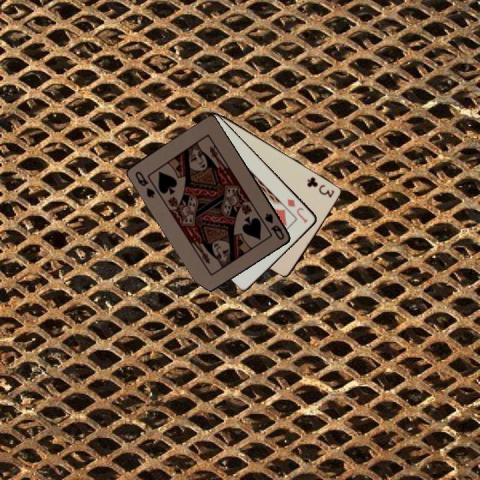3c: (304, 174, 336, 199)
Jd: (284, 195, 309, 225)
Qs: (132, 168, 157, 199), (262, 210, 286, 241)
